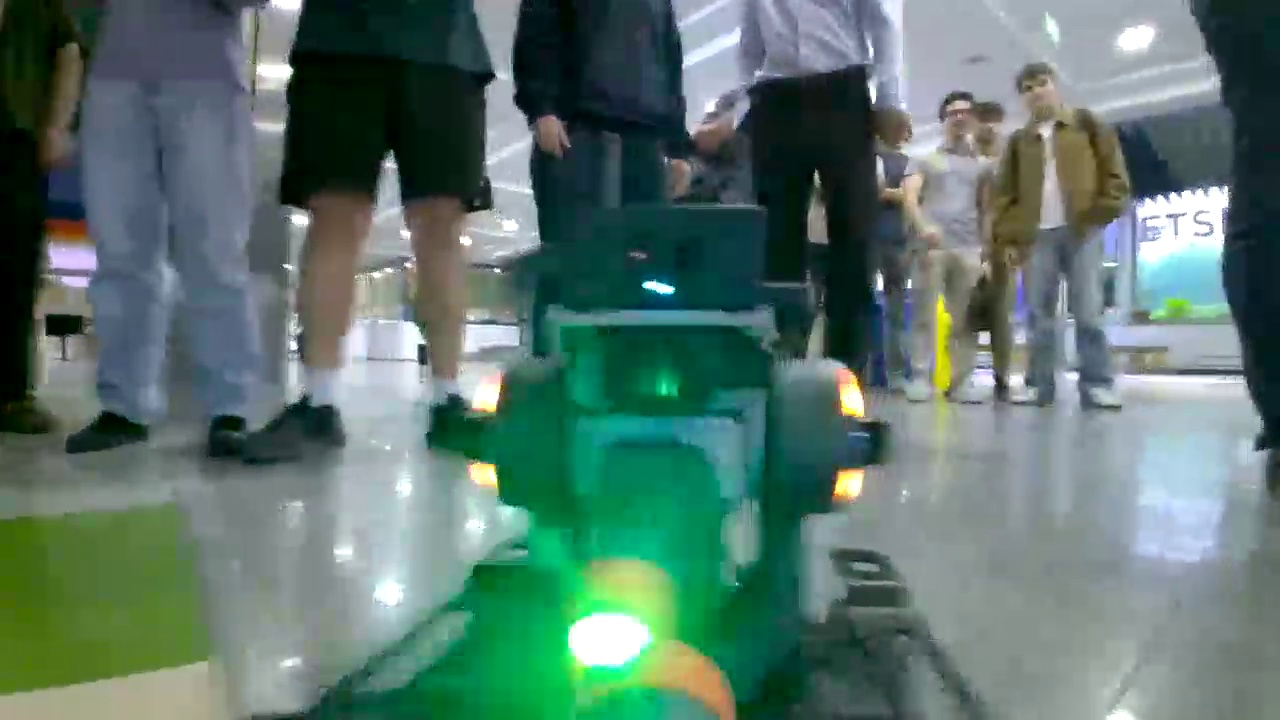robot: (242, 199, 1015, 720)
